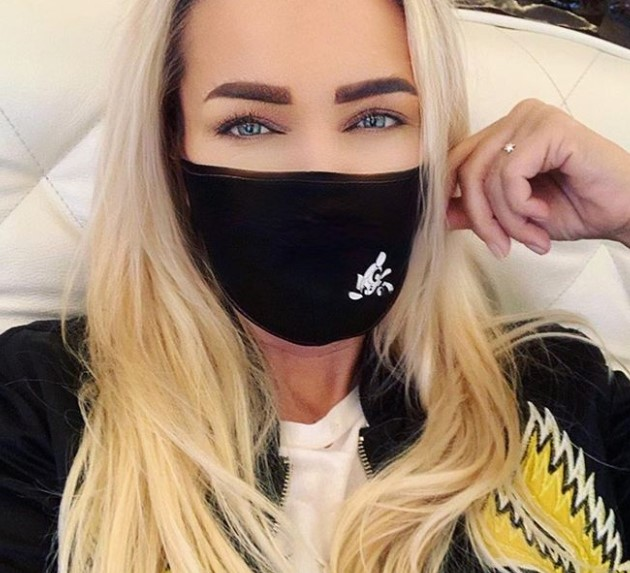face_with_mask: (124, 0, 467, 358)
